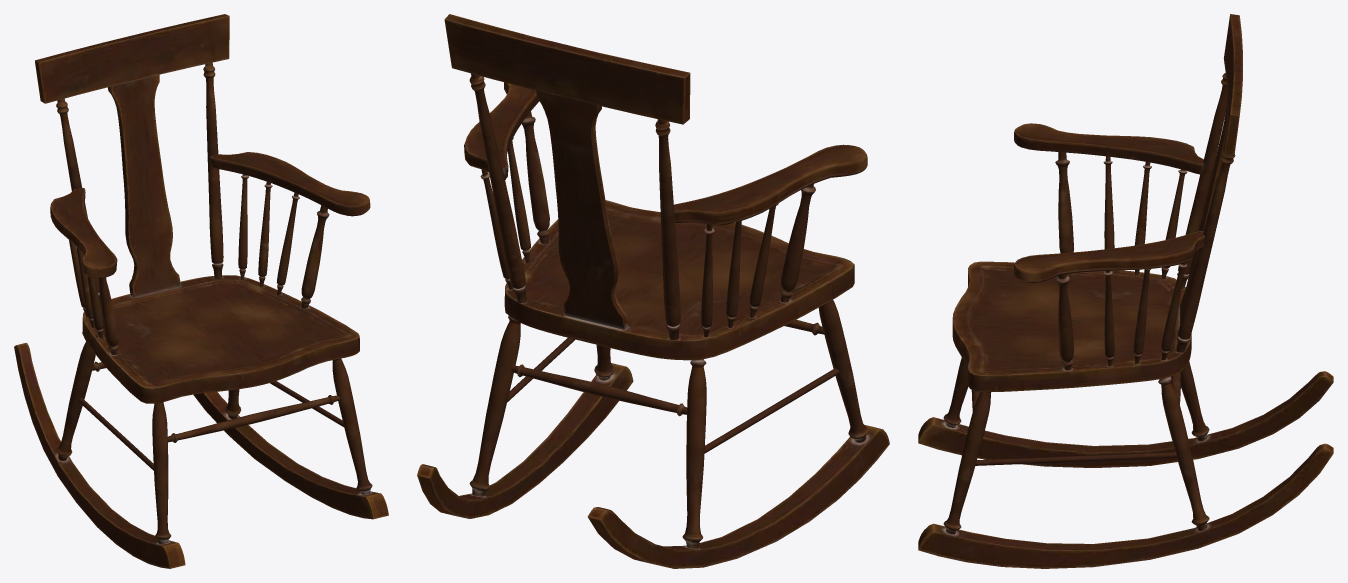
Rendered from Rockingchair_01.glb.
3 views of the same model, side by side, from view 1: azimuth 30°, elevation 25°; view 2: azimuth 150°, elevation 25°; view 3: azimuth 270°, elevation 25° (orthographic). The views are drawn at different scales.
Visible parts, largest first — view 1: Rockingchair_01; view 2: Rockingchair_01; view 3: Rockingchair_01.
Part boxes in pixels (x1,y1,x2,y2): Rockingchair_01: [14, 14, 388, 568]; Rockingchair_01: [417, 14, 889, 568]; Rockingchair_01: [918, 14, 1333, 568].
Size of the model in its own units: 0.7081 by 0.9949 by 0.8335.
1 material, 1 textured.
